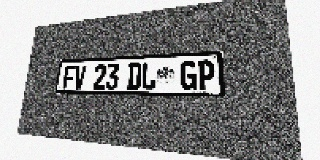2: (93, 64, 107, 89)
3: (105, 64, 119, 89)
D: (127, 63, 142, 89)
F: (62, 65, 76, 89)
G: (180, 60, 197, 90)
L: (141, 62, 156, 90)
P: (197, 60, 215, 90)
V: (73, 65, 87, 89)
